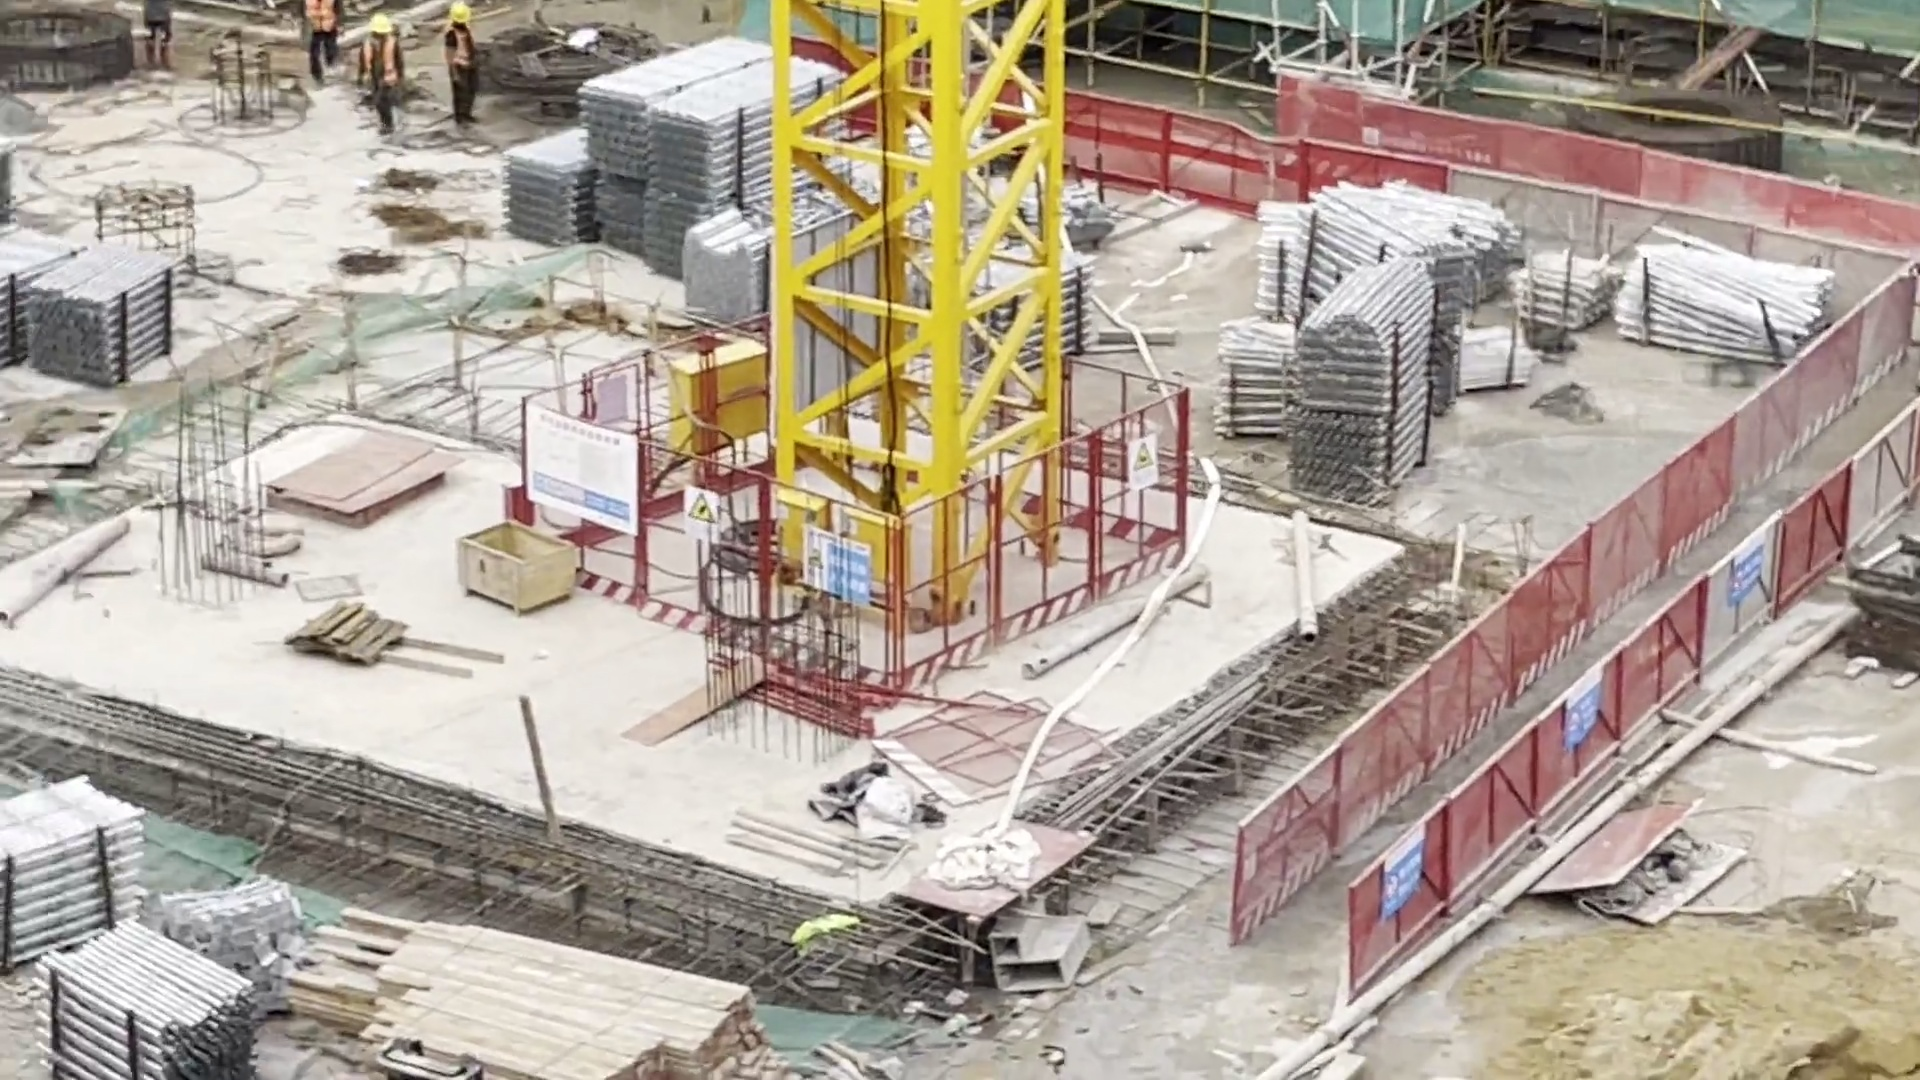fence: (524, 396, 916, 695), (928, 415, 1196, 680), (1316, 712, 1577, 973), (1569, 512, 1850, 737), (1586, 141, 1919, 251), (1240, 717, 1383, 951), (1364, 612, 1563, 774), (1273, 76, 1577, 174), (1648, 381, 1840, 534), (1505, 510, 1708, 649), (1065, 88, 1255, 200), (1801, 285, 1920, 404), (1793, 436, 1920, 537)
hopper: (462, 522, 574, 609)
scaffold: (582, 45, 827, 315), (1284, 264, 1437, 512), (36, 914, 247, 1080), (1262, 183, 1527, 311), (3, 781, 152, 961), (1, 237, 173, 385), (1619, 241, 1818, 364), (496, 142, 589, 255), (1217, 326, 1290, 438)
slogan: (803, 531, 873, 603), (680, 491, 720, 543)
wood: (324, 905, 798, 1080)
